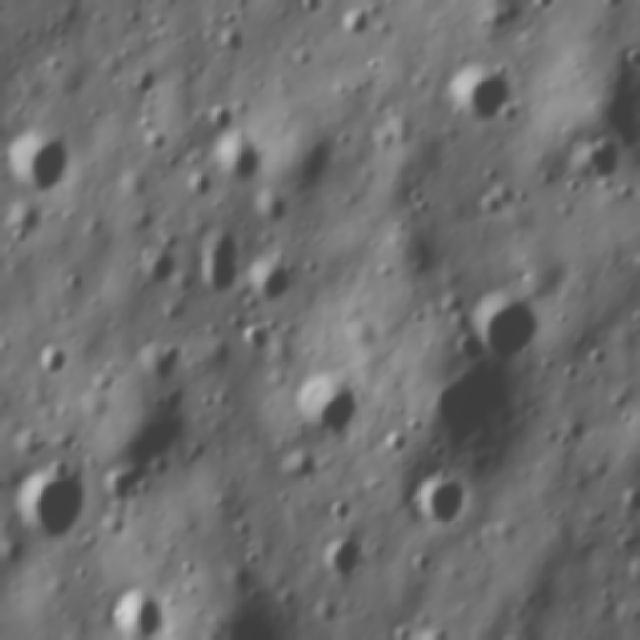crater: (436, 368, 510, 458), (18, 472, 91, 540), (5, 128, 67, 202), (554, 135, 621, 193), (480, 296, 537, 362), (300, 380, 354, 442), (316, 534, 382, 578), (415, 476, 473, 526), (96, 597, 173, 632), (198, 228, 239, 292), (458, 67, 504, 119), (220, 142, 265, 192), (132, 245, 171, 292), (258, 262, 296, 303), (198, 106, 235, 134), (36, 349, 67, 378), (181, 174, 208, 206), (452, 334, 478, 364)
